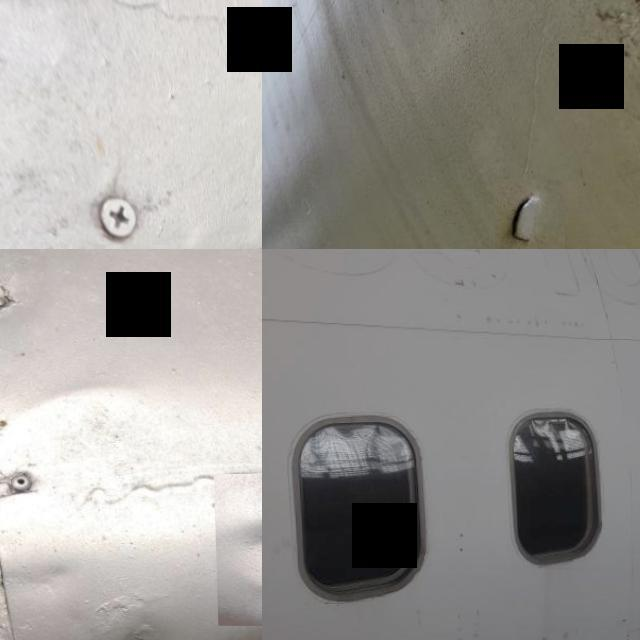Crack: (490, 178, 562, 249)
Dent: (69, 587, 232, 640), (212, 473, 262, 626)
